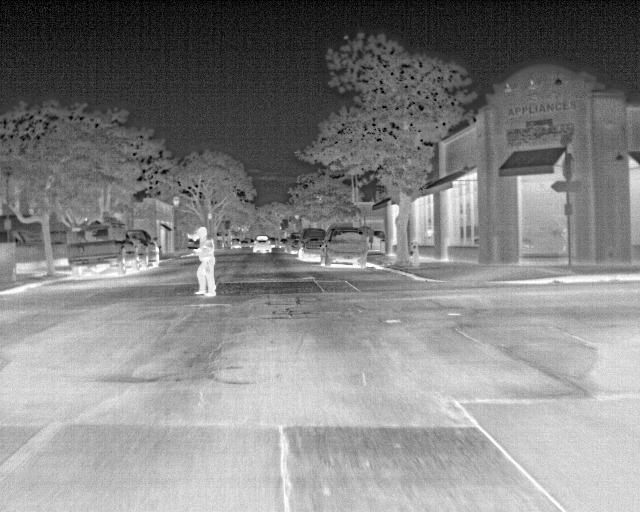bicycle: (65, 227, 140, 276), (319, 223, 369, 268), (298, 227, 329, 261), (140, 228, 161, 265), (251, 235, 272, 257), (286, 234, 304, 255), (228, 236, 244, 250)
empty: (188, 224, 220, 298)
